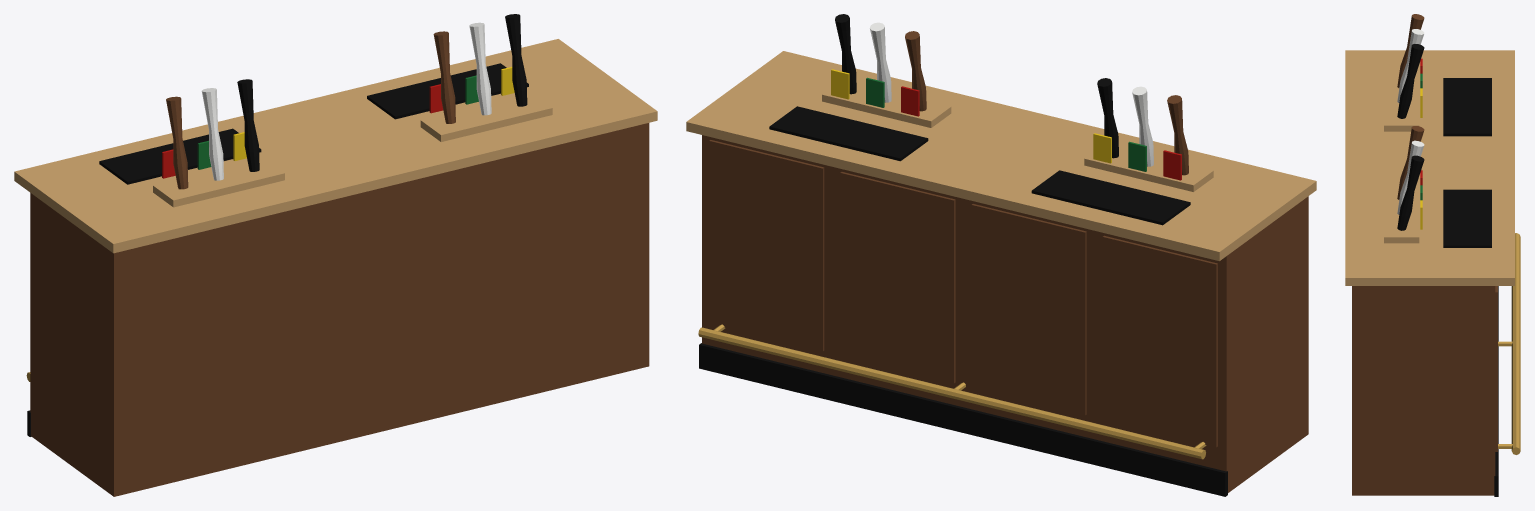
The model's file is hospitality.pub.bar_counter.glb.
3 renders of one model, left to right at view 1: azimuth 30°, elevation 25°; view 2: azimuth 150°, elevation 25°; view 3: azimuth 270°, elevation 25°, orthographic. The views are drawn at different scales.
Parts seen in each view (by area): view 1: counter__hardwood, counter__glulam, fittings__glulam, fittings__rubber, fittings__plastic_black, fittings__ceramic, fittings__hardwood, fittings__plastic_green, fittings__plastic_red, fittings__plastic_yellow; view 2: counter__hardwood, counter__glulam, counter__plastic_black, fittings__rubber, counter__brass, fittings__glulam, fittings__ceramic, fittings__hardwood, fittings__plastic_black, fittings__plastic_red, fittings__plastic_yellow, fittings__plastic_green; view 3: counter__hardwood, counter__glulam, fittings__rubber, fittings__glulam, counter__brass, fittings__plastic_black, fittings__ceramic, fittings__hardwood, counter__plastic_black.
Boxes of the visible parts, x1,y1,x2,y2 form: counter__hardwood: [30, 123, 649, 496]; counter__glulam: [14, 39, 657, 253]; fittings__glulam: [153, 93, 552, 207]; fittings__rubber: [99, 63, 528, 184]; fittings__plastic_black: [237, 14, 527, 171]; fittings__ceramic: [201, 22, 491, 180]; fittings__hardwood: [166, 31, 455, 189]; fittings__plastic_green: [197, 75, 478, 169]; fittings__plastic_red: [162, 84, 443, 178]; fittings__plastic_yellow: [233, 67, 514, 160]; counter__hardwood: [702, 135, 1308, 492]; counter__glulam: [686, 51, 1316, 261]; counter__plastic_black: [699, 343, 1227, 496]; fittings__rubber: [769, 106, 1190, 225]; counter__brass: [698, 324, 1206, 459]; fittings__glulam: [822, 83, 1213, 191]; fittings__ceramic: [870, 22, 1153, 166]; fittings__hardwood: [905, 31, 1188, 175]; fittings__plastic_black: [835, 14, 1118, 158]; fittings__plastic_red: [901, 86, 1181, 180]; fittings__plastic_yellow: [831, 69, 1111, 163]; fittings__plastic_green: [866, 77, 1146, 171]; counter__hardwood: [1352, 286, 1497, 495]; counter__glulam: [1345, 50, 1514, 285]; fittings__rubber: [1443, 78, 1491, 247]; fittings__glulam: [1384, 79, 1419, 243]; counter__brass: [1498, 233, 1520, 454]; fittings__plastic_black: [1397, 44, 1424, 230]; fittings__ceramic: [1397, 29, 1424, 214]; fittings__hardwood: [1397, 14, 1424, 199]; counter__plastic_black: [1494, 286, 1498, 496].
Bounding box in the file's own units: 2.44 × 1.49 × 0.795.
